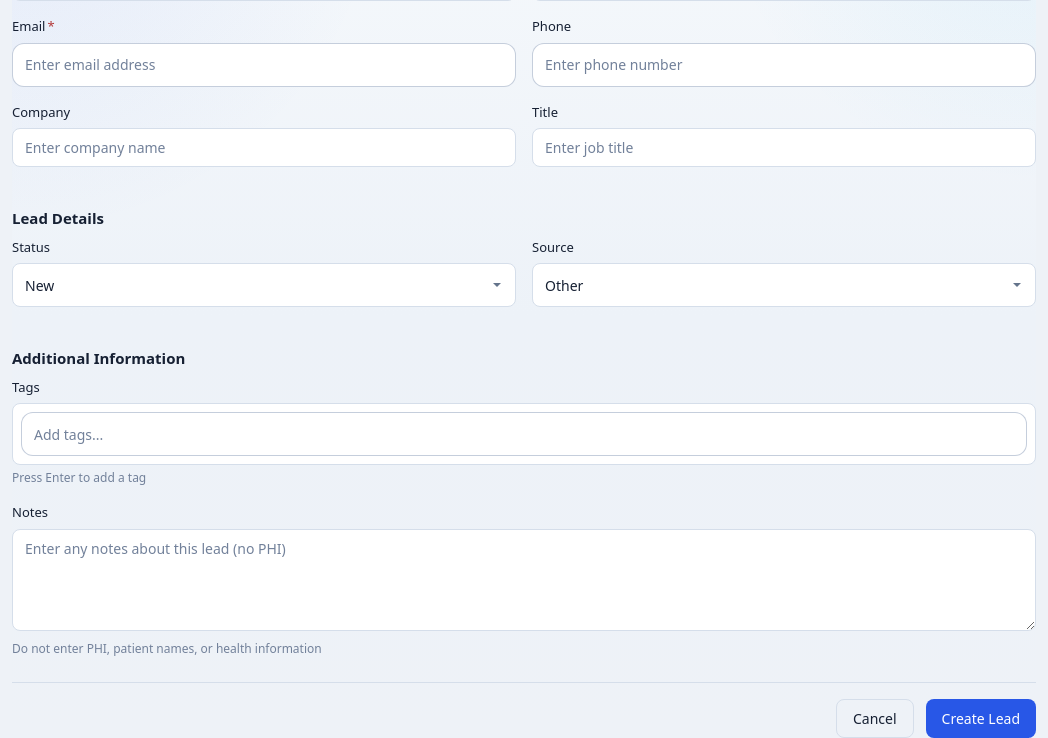
LeadForm › validates required fields
The image size is (1048, 738).
(page scrolled)
# Submit empty form
Click the button "Create Lead": (981, 718) [926,698,1036,737]
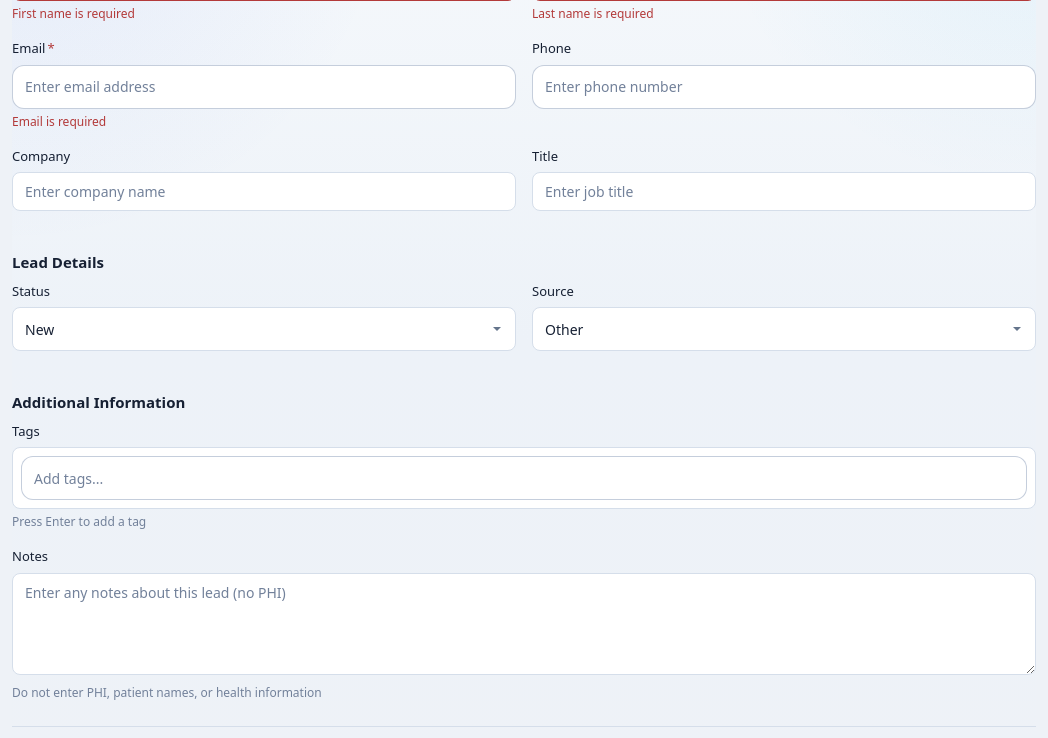
Result: the text "First name is required" is shown at [12,5,135,22]
Result: the text "Last name is required" is shown at [532,5,654,22]
Result: the text "Email is required" is shown at [12,112,106,130]
